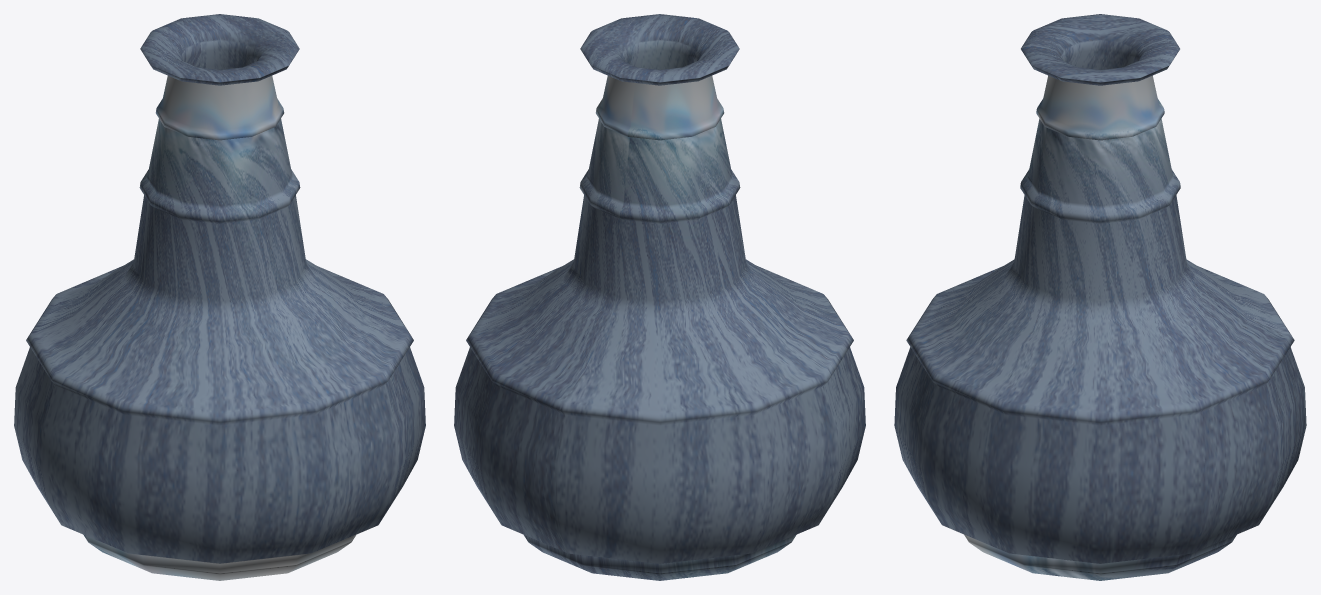
The model's file is Tubomdl.fbx.
3 views of the same model, side by side, from view 1: azimuth 30°, elevation 25°; view 2: azimuth 150°, elevation 25°; view 3: azimuth 270°, elevation 25° (orthographic).
Parts seen in each view (by area): view 1: Tubomdl; view 2: Tubomdl; view 3: Tubomdl.
Boxes of the visible parts, x1,y1,x2,y2 form: Tubomdl: (14,14,425,580); Tubomdl: (454,14,865,580); Tubomdl: (894,14,1306,580).
Size of the model in its own units: 18.79 by 24.24 by 18.79.
Materials: 1 (1 with a texture image).
